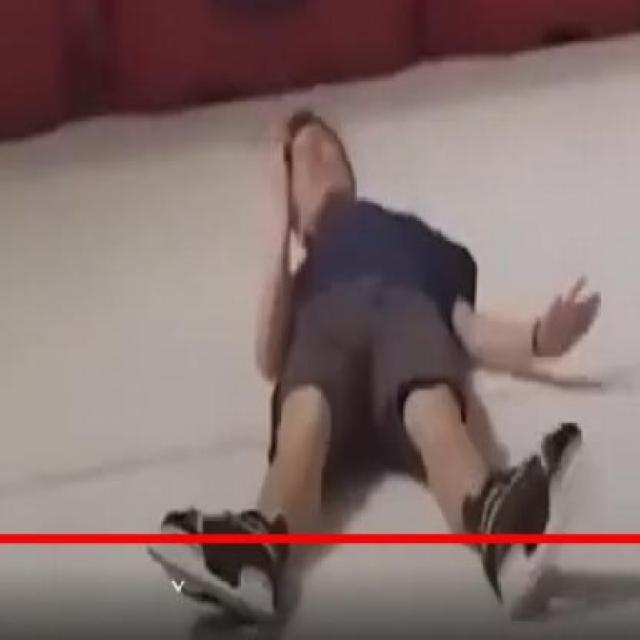fall: (155, 110, 592, 621)
